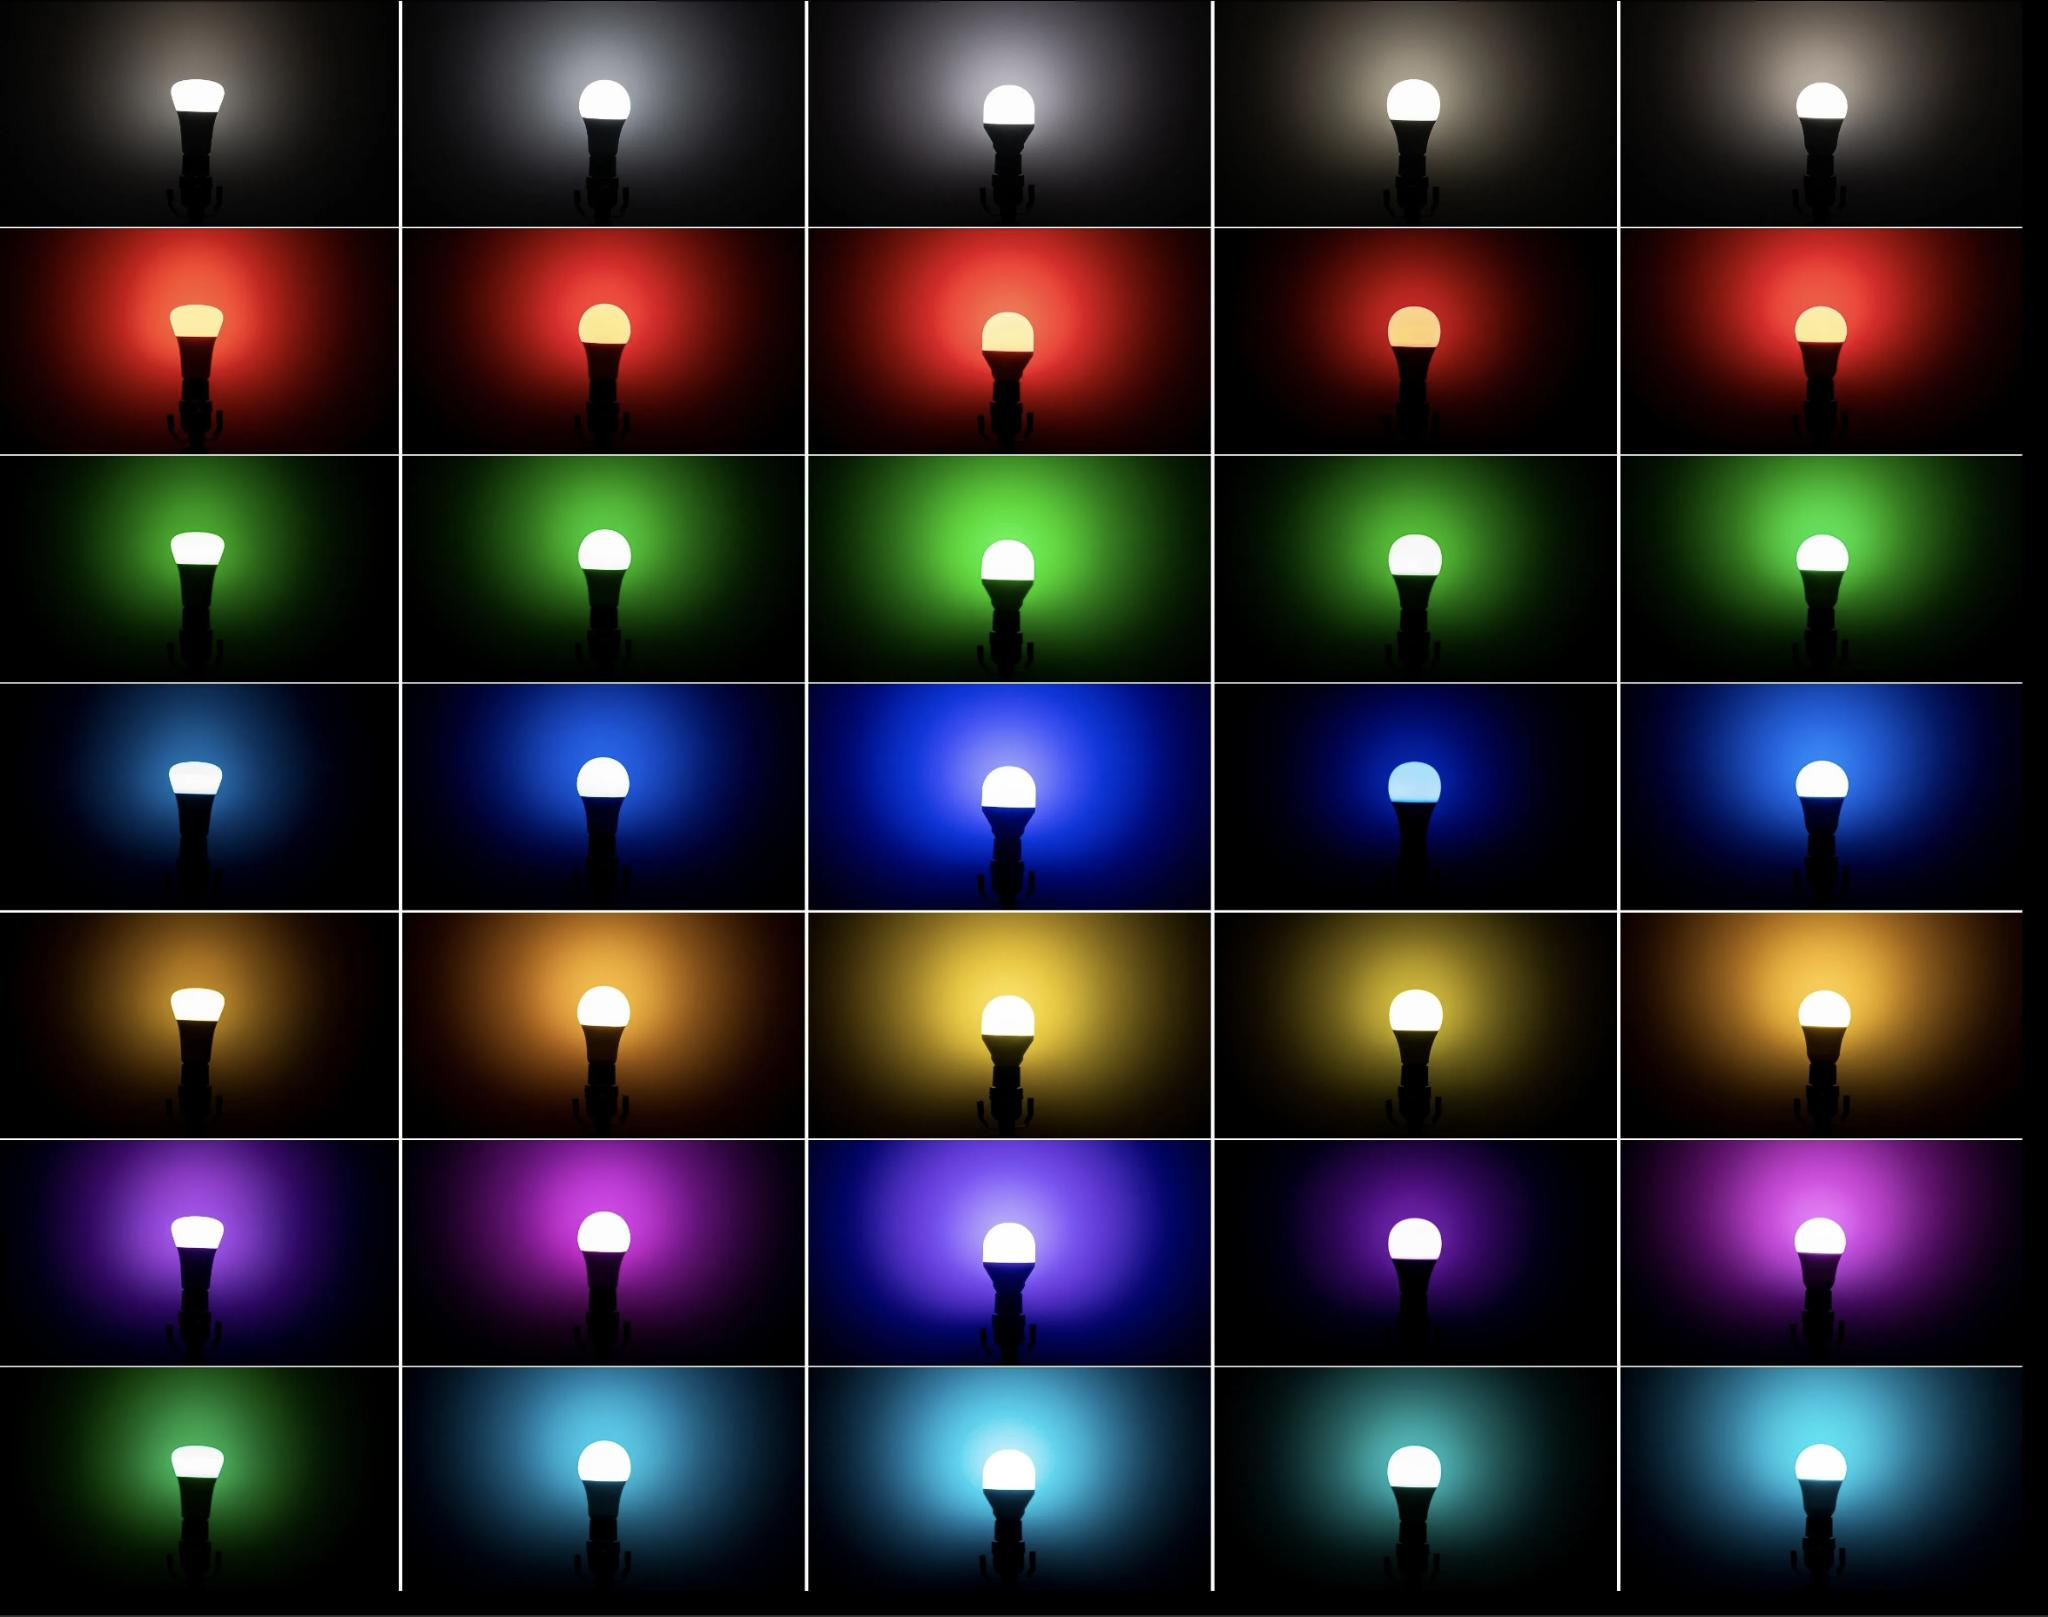TubeLight: (575, 985, 632, 1085), (575, 1439, 630, 1539), (1385, 1444, 1440, 1542), (979, 764, 1036, 859), (1386, 987, 1441, 1084), (168, 530, 224, 623), (577, 527, 630, 625), (981, 1221, 1036, 1315), (1792, 1443, 1845, 1537), (981, 994, 1034, 1089), (979, 537, 1032, 632), (1794, 306, 1847, 399), (1797, 990, 1850, 1084), (1792, 1216, 1845, 1310), (981, 1449, 1034, 1542), (1386, 761, 1440, 854), (1795, 759, 1847, 854), (574, 754, 628, 843), (1795, 533, 1847, 627), (1794, 81, 1847, 171), (981, 85, 1032, 174), (981, 311, 1032, 399), (577, 302, 630, 386), (1386, 306, 1440, 387), (166, 985, 223, 1062), (166, 761, 221, 839), (1386, 1218, 1440, 1298), (575, 1212, 628, 1291), (170, 80, 224, 156), (1386, 532, 1441, 608), (168, 1444, 223, 1519), (168, 302, 223, 377), (1385, 78, 1438, 153), (170, 1215, 223, 1290), (578, 80, 630, 155)
